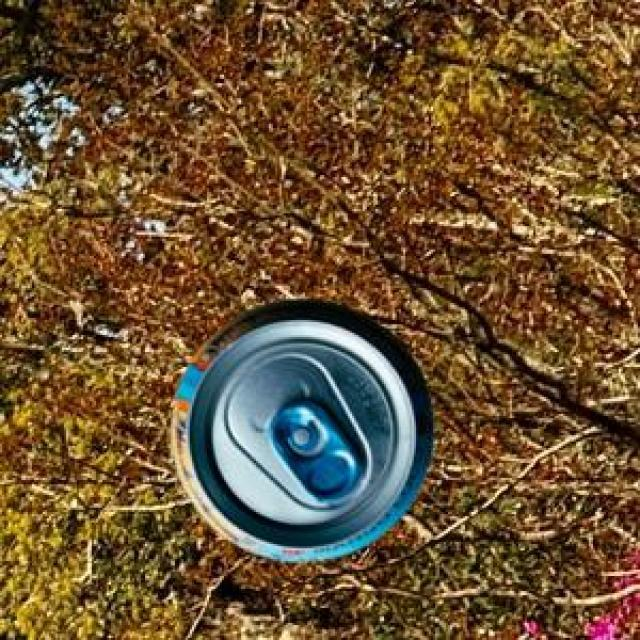Can: (167, 298, 430, 558)
